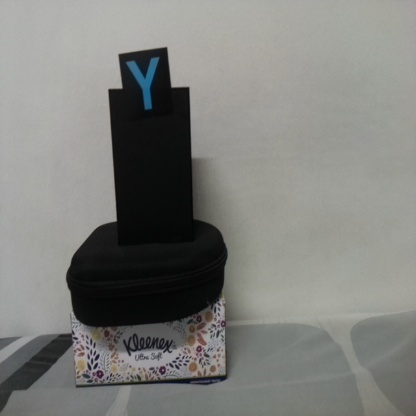id_14: (118, 53, 171, 116)
